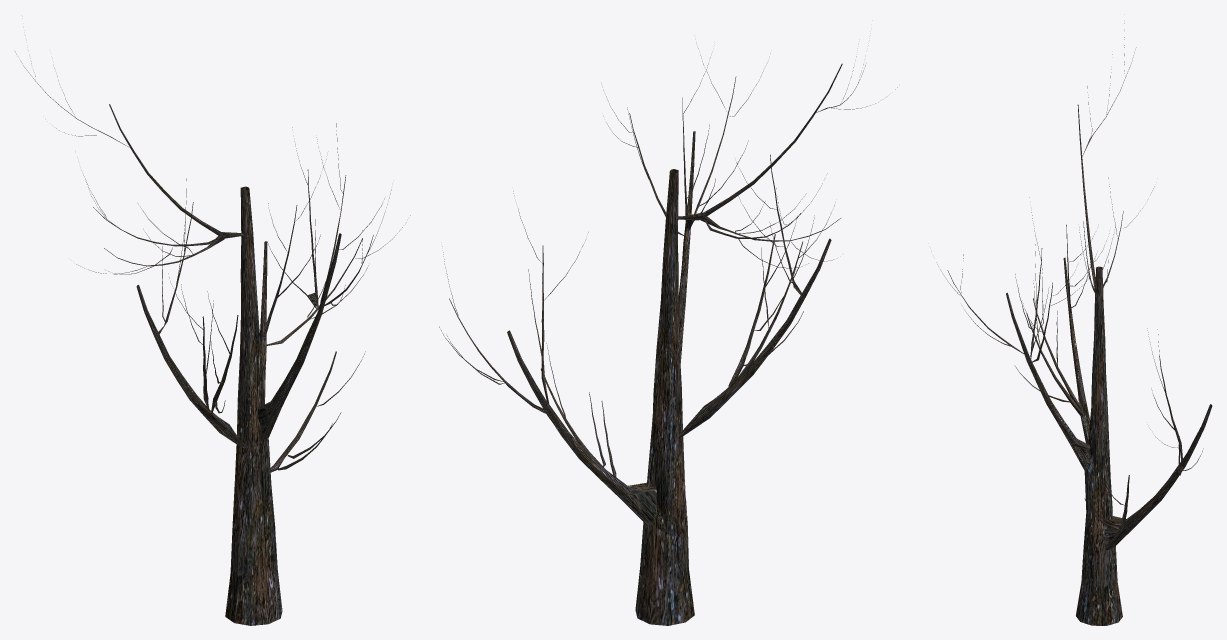
File: tree4.obj
3 renders of one model, left to right at view 1: azimuth 30°, elevation 25°; view 2: azimuth 150°, elevation 25°; view 3: azimuth 270°, elevation 25°, orthographic. The views are drawn at different scales.
Visible parts, largest first — view 1: object1, object2, object28, object41, object15, object46; view 2: object1, object41, object28, object2, object15; view 3: object1, object41, object2, object28, object15.
Part boxes in pixels (bbox=[...]): object1: bbox=[225, 186, 282, 625]; object2: bbox=[258, 233, 341, 443]; object28: bbox=[136, 285, 249, 448]; object41: bbox=[260, 241, 267, 404]; object15: bbox=[109, 104, 245, 238]; object46: bbox=[270, 351, 336, 472]; object1: bbox=[635, 169, 694, 625]; object41: bbox=[507, 330, 656, 525]; object28: bbox=[679, 238, 831, 437]; object2: bbox=[679, 131, 695, 362]; object15: bbox=[676, 63, 842, 220]; object1: bbox=[1076, 266, 1122, 625]; object41: bbox=[1104, 404, 1212, 550]; object2: bbox=[1006, 293, 1090, 473]; object28: bbox=[1063, 257, 1089, 443]; object15: bbox=[1077, 104, 1095, 294].
Bounding box in the file's own units: 1.28 × 1.94 × 0.9625.
